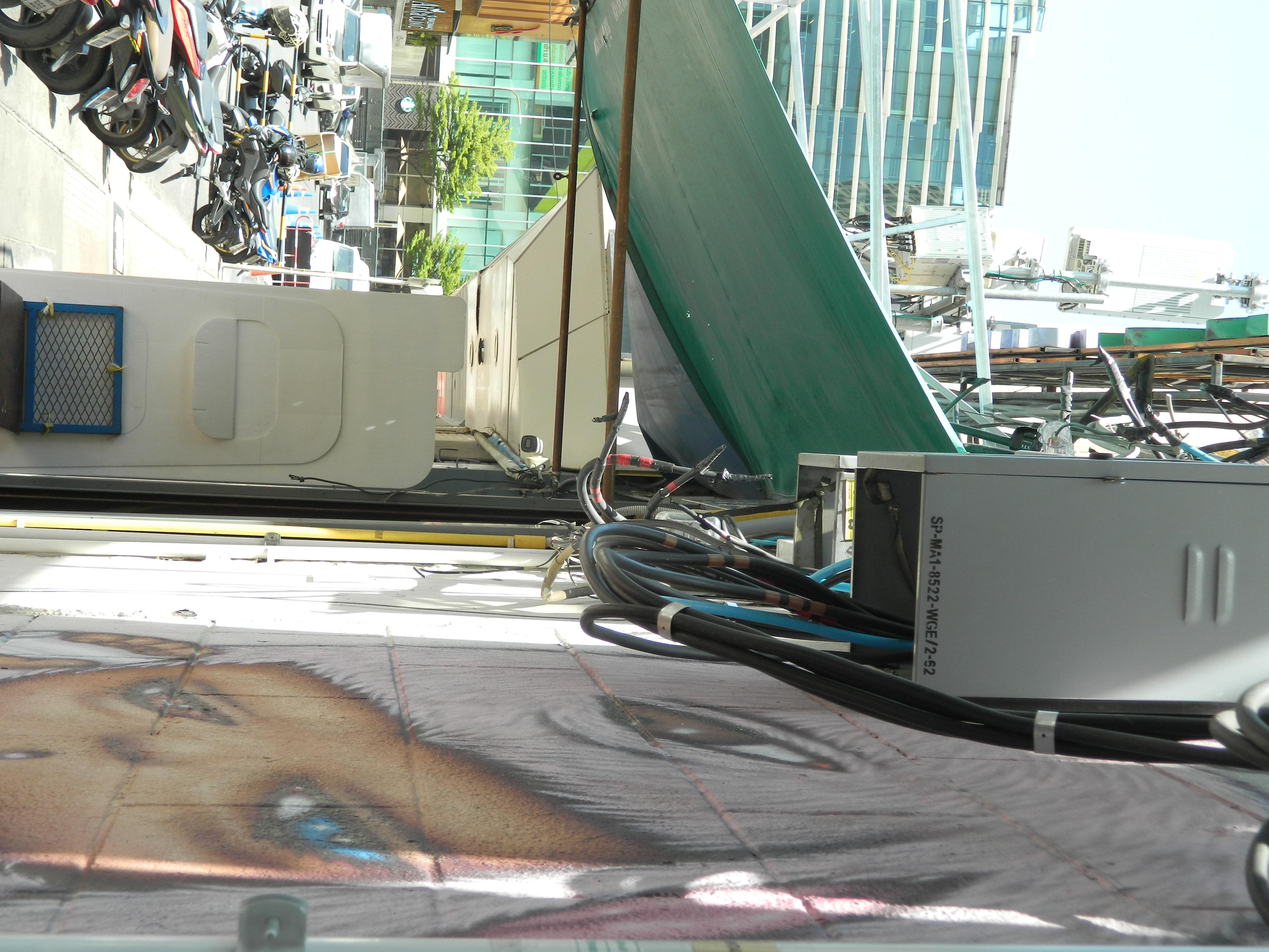wires: (648, 359, 851, 529)
